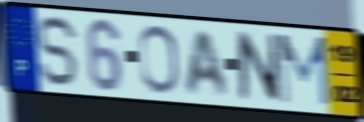6: (85, 16, 123, 94)
A: (183, 28, 232, 98)
M: (276, 32, 333, 109)
N: (234, 29, 282, 105)
O: (136, 23, 182, 96)
S: (35, 13, 82, 89)
